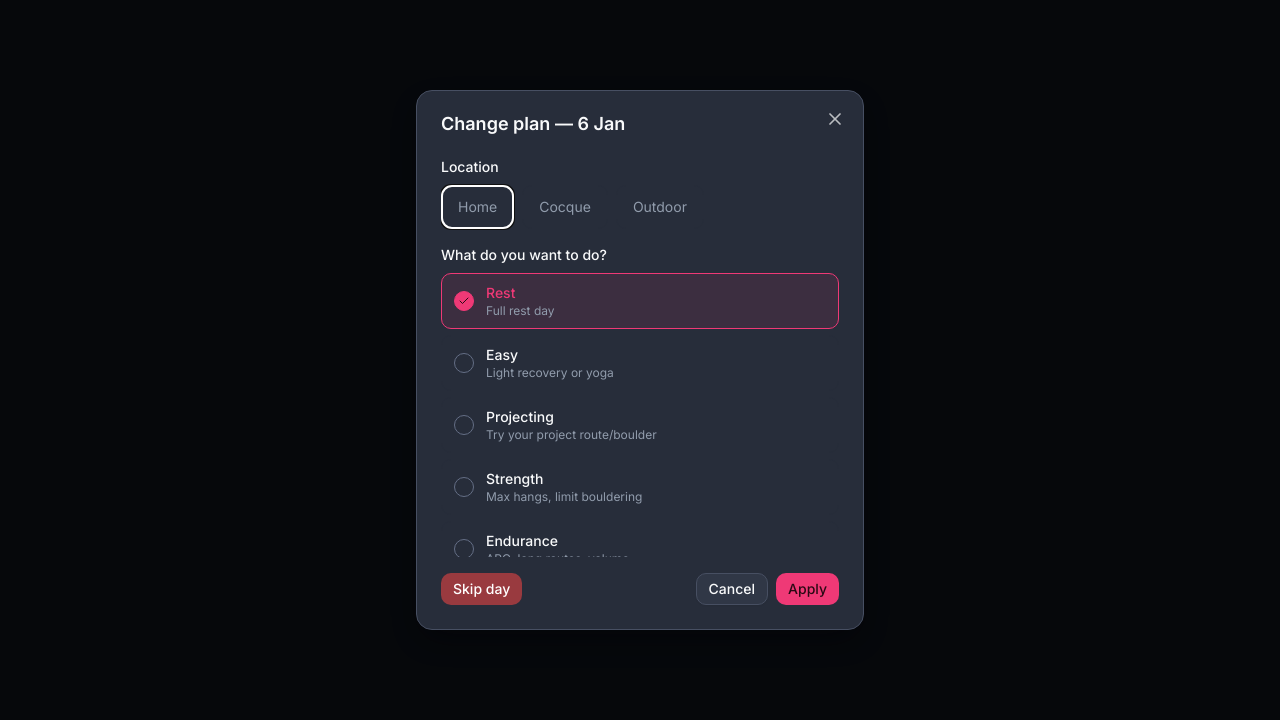
it: ReplanDialog — outdoor spot picker (B360) › Apply resta disabled finché non si sceglie una falesia
Click the button "Outdoor" at (660, 207), box [616,185,704,229]
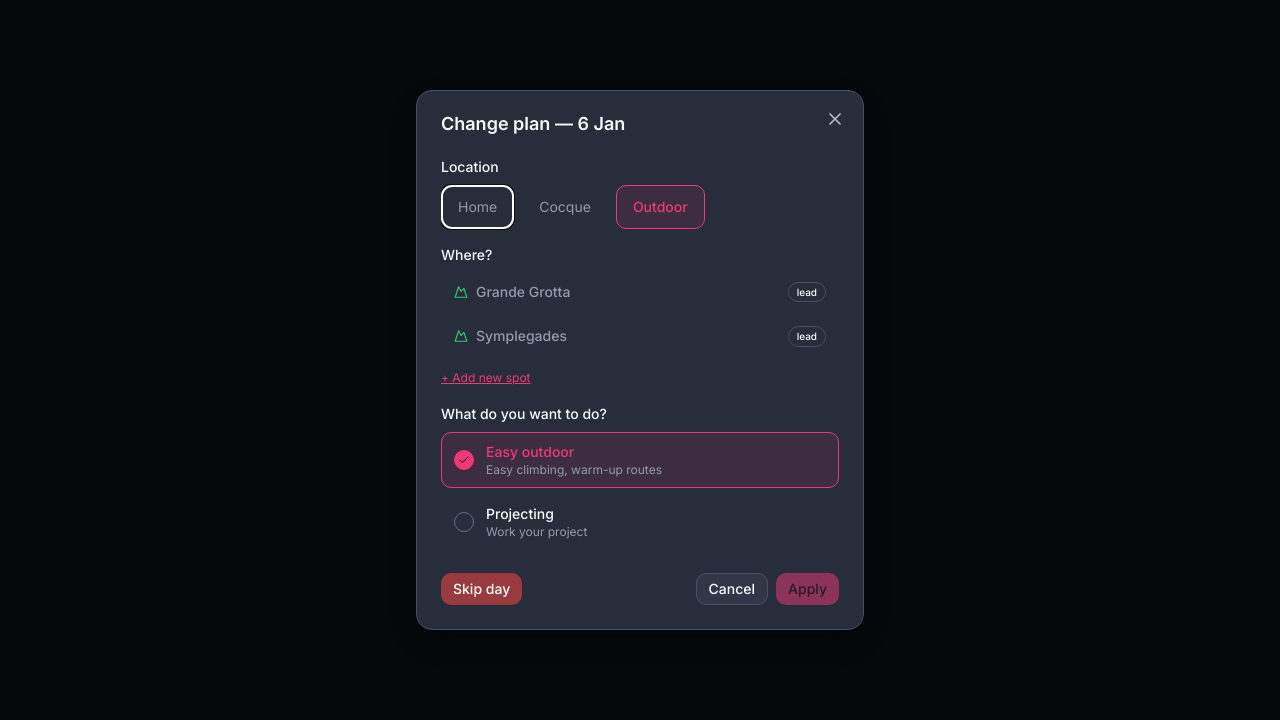
Expected: the text "Grande Grotta" is shown, [476,282,570,302]
Expected: the button "Apply" is disabled, [776,573,839,605]
Click the button "Grande Grotta lead" at (523, 292), box [441,273,839,311]
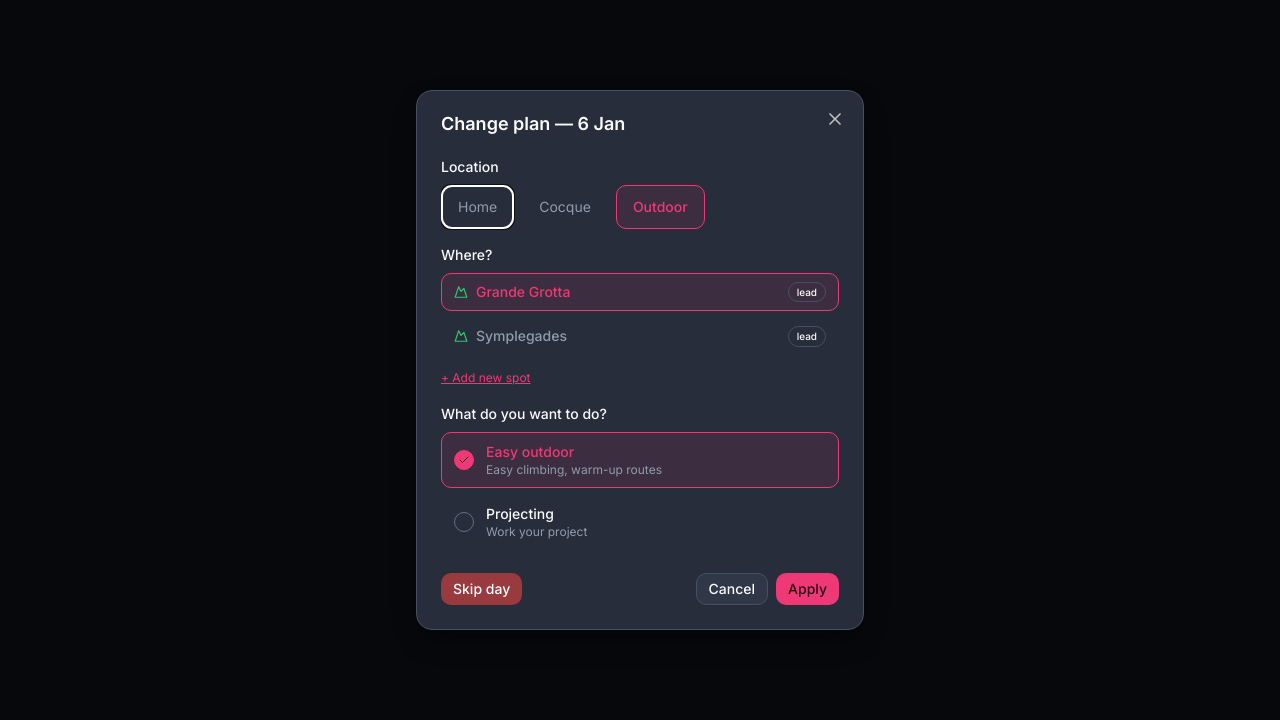
Expected: the button "Apply" is enabled, [776,573,839,605]
